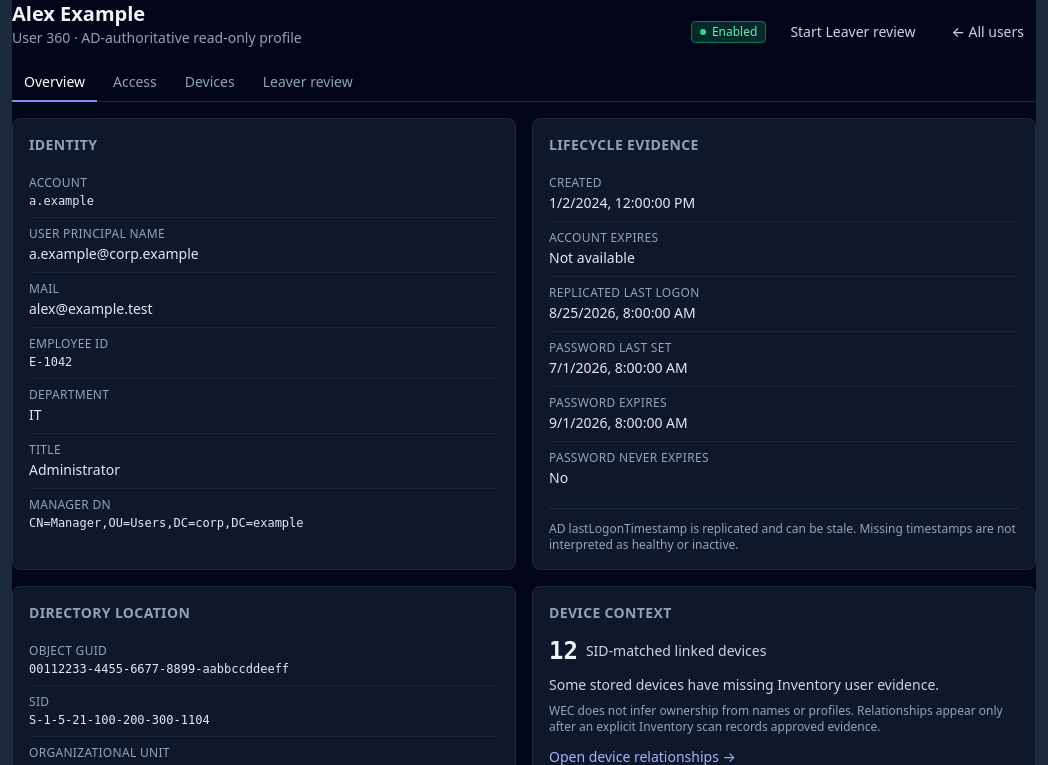
Test: UserDetailPage › shows bounded relationship evidence and stored device context without starting scans
Click the tab "Devices": (210, 83) x1=173 y1=64 x2=247 y2=102
(page scrolled)
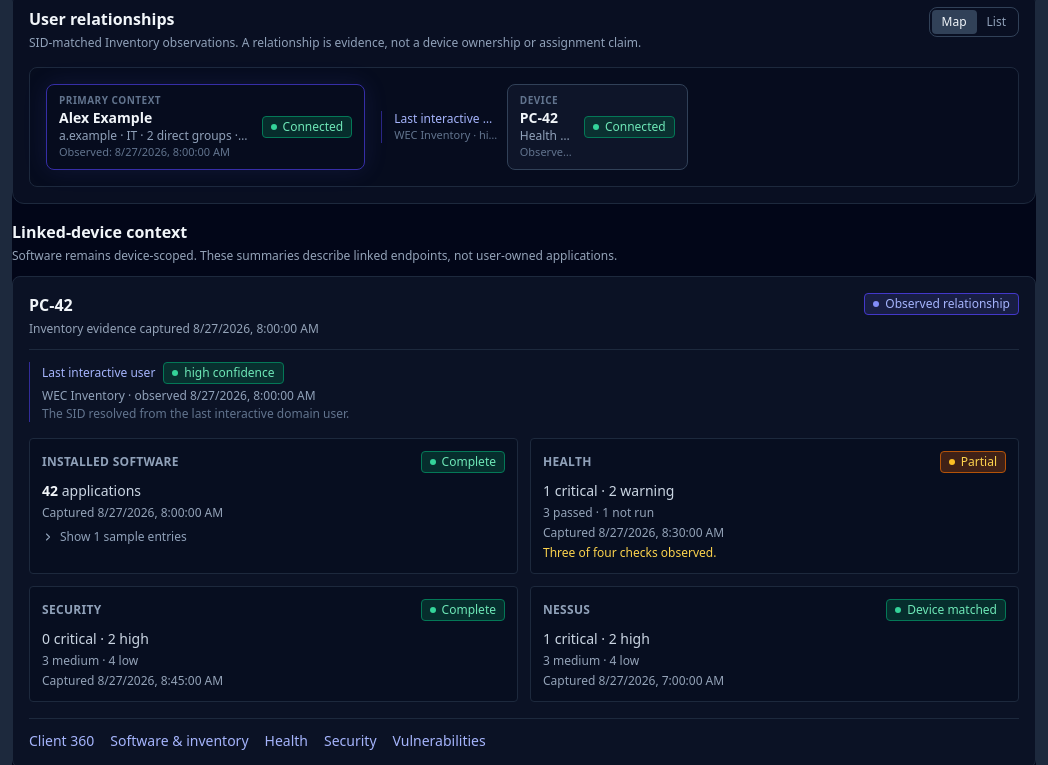
Result: the heading "User relationships" is shown at x1=29 y1=8 x2=174 y2=30
Result: the text "The SID resolved from the last interactive domain user." is shown at x1=42 y1=404 x2=349 y2=422
Result: the element "Installed software" shows "42 applications" at x1=29 y1=438 x2=518 y2=574
